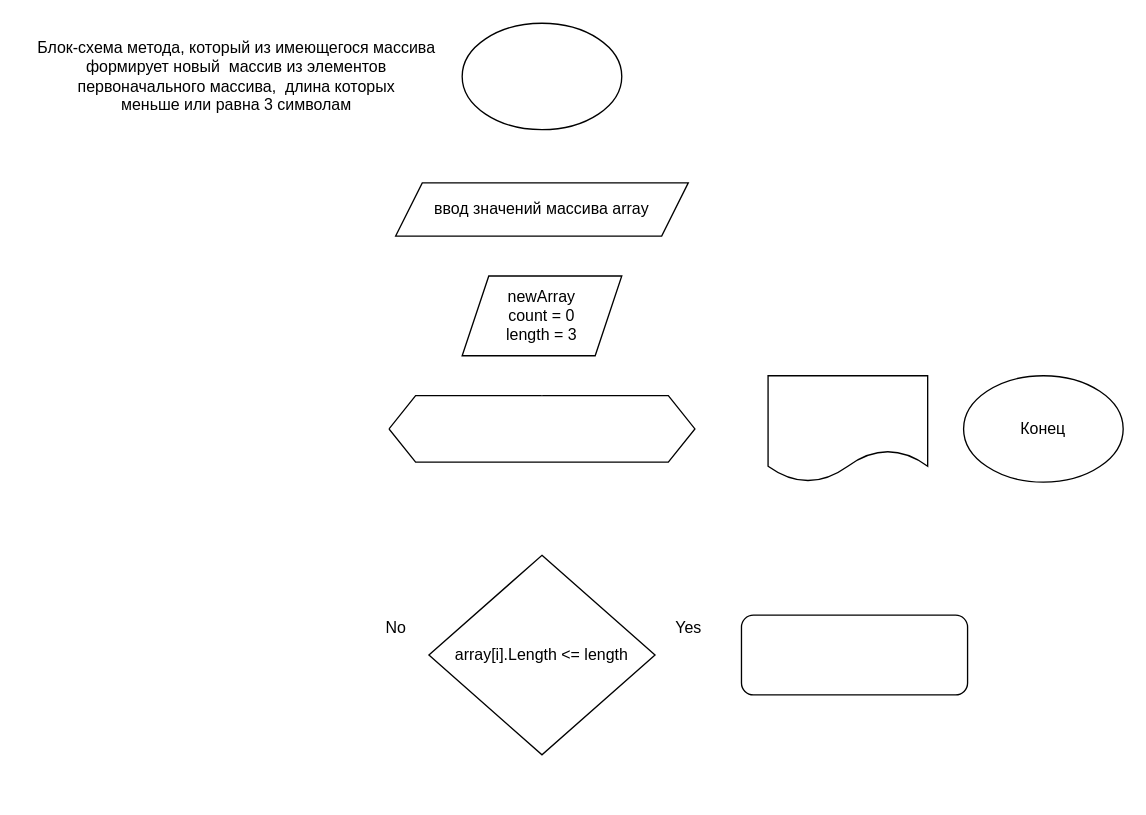
Some shapes in this 1146 by 815 pixel diagram are drawn without their labels. The shapes that lost their labels are listed below. From the top down, each one's centre as x and y in pixels, then its label:
point (541, 76): Начало
point (541, 428): i = 0, i < array.Length, i++
point (847, 428): newArray
point (854, 654): newArray[count] = array[i] count++
